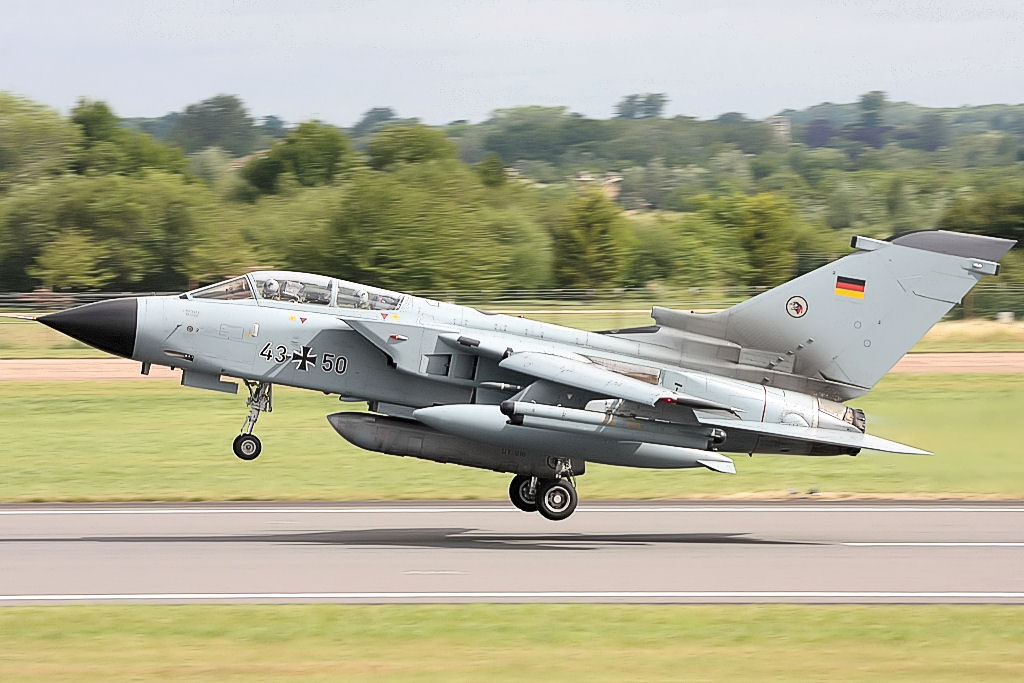Tornado: (1, 228, 1019, 521)
